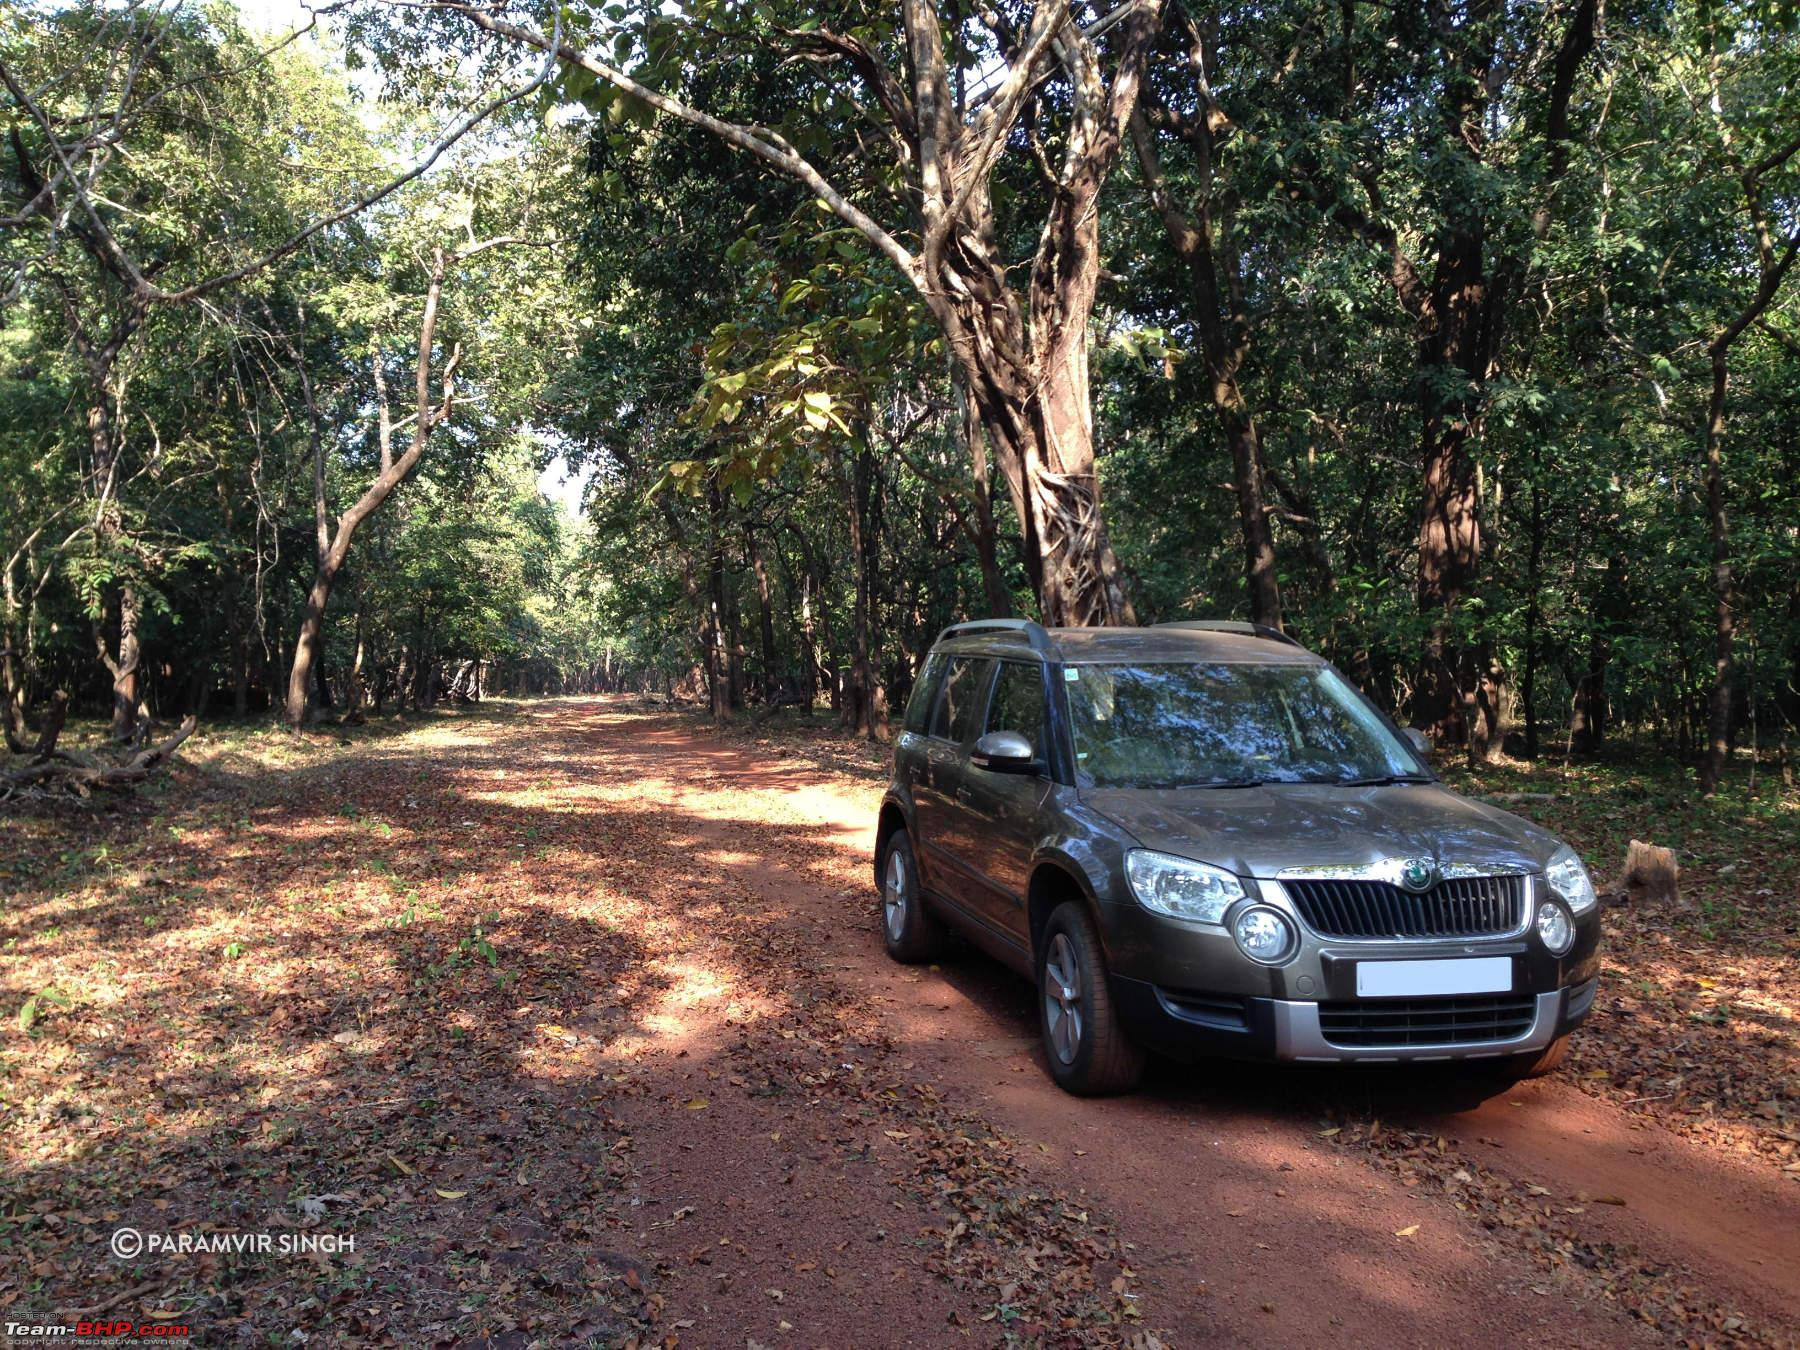car: (872, 617, 1604, 1120)
